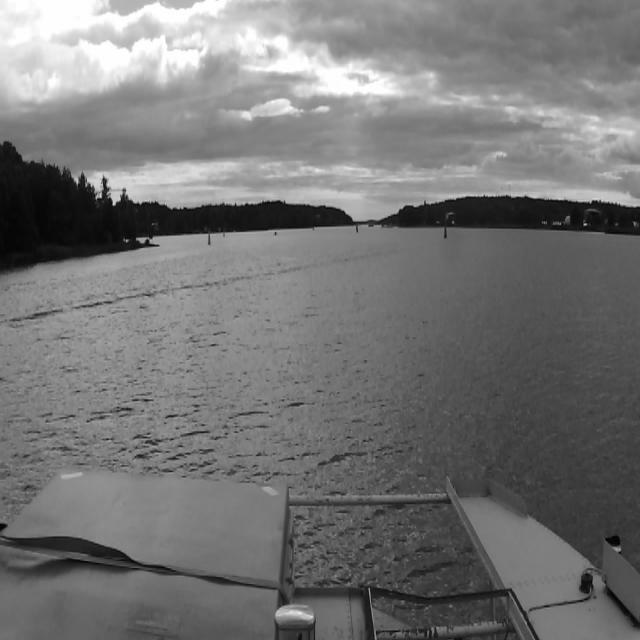buoy: (207, 227, 211, 247), (443, 224, 447, 240), (354, 218, 358, 234), (222, 227, 225, 239), (356, 223, 358, 231)
ship: (273, 231, 278, 237), (311, 226, 315, 232)
